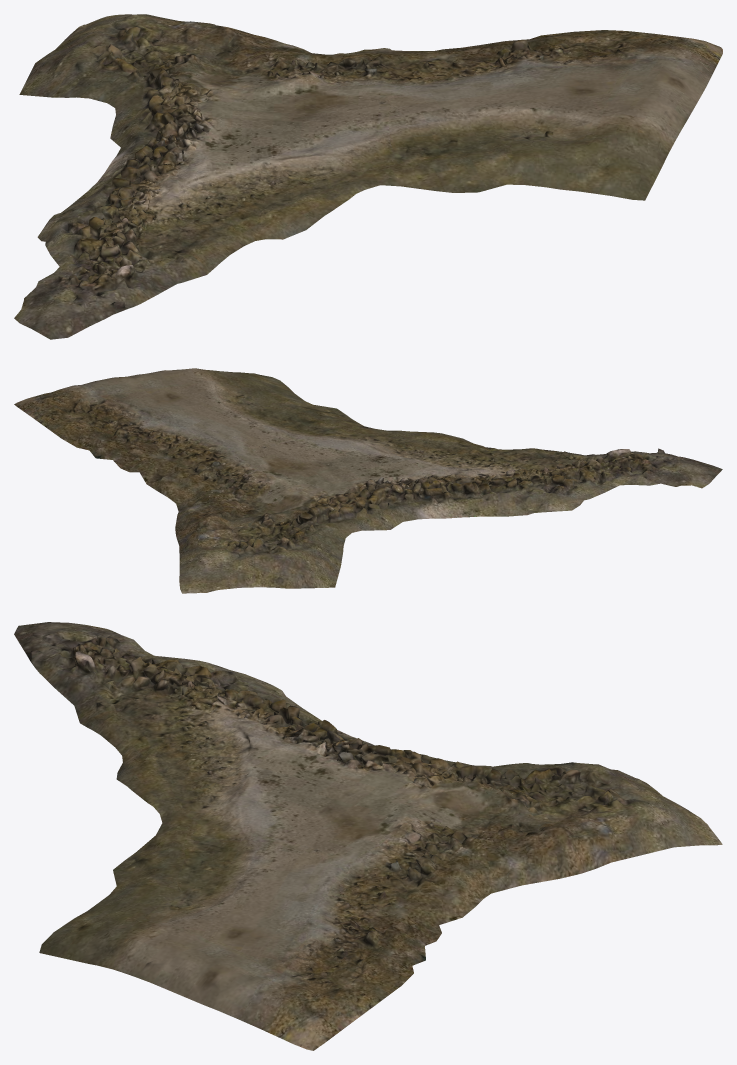
Rendered from coast_rocks_01.glb.
The picture shows the model from 3 angles, top to bottom: view 1: azimuth 30°, elevation 25°; view 2: azimuth 150°, elevation 25°; view 3: azimuth 270°, elevation 25°; orthographic projection. The views are drawn at different scales.
Parts seen in each view (by area): view 1: coast_rocks_01; view 2: coast_rocks_01; view 3: coast_rocks_01.
Boxes of the visible parts, x1=… form: coast_rocks_01: x1=14, y1=14, x2=722, y2=339; coast_rocks_01: x1=14, y1=368, x2=722, y2=593; coast_rocks_01: x1=14, y1=622, x2=722, y2=1050.
Size of the model in its own units: 59.49 by 3.28 by 42.47.
1 material, 1 textured.
